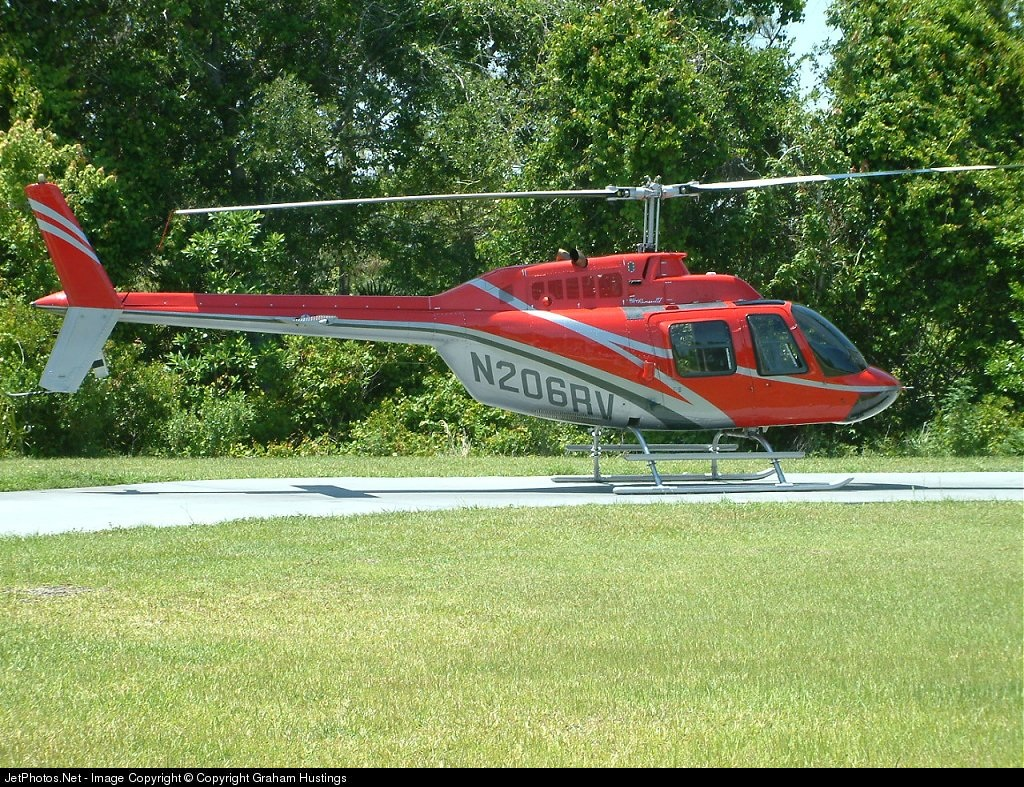number: (468, 349, 619, 424)
